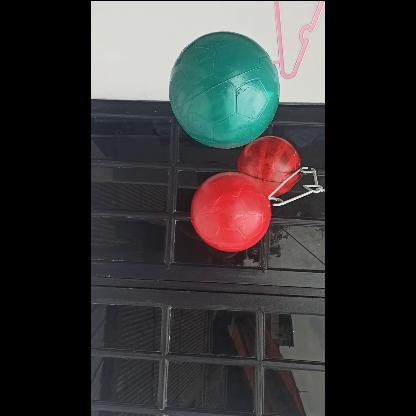red_ball: (192, 172, 272, 252)
